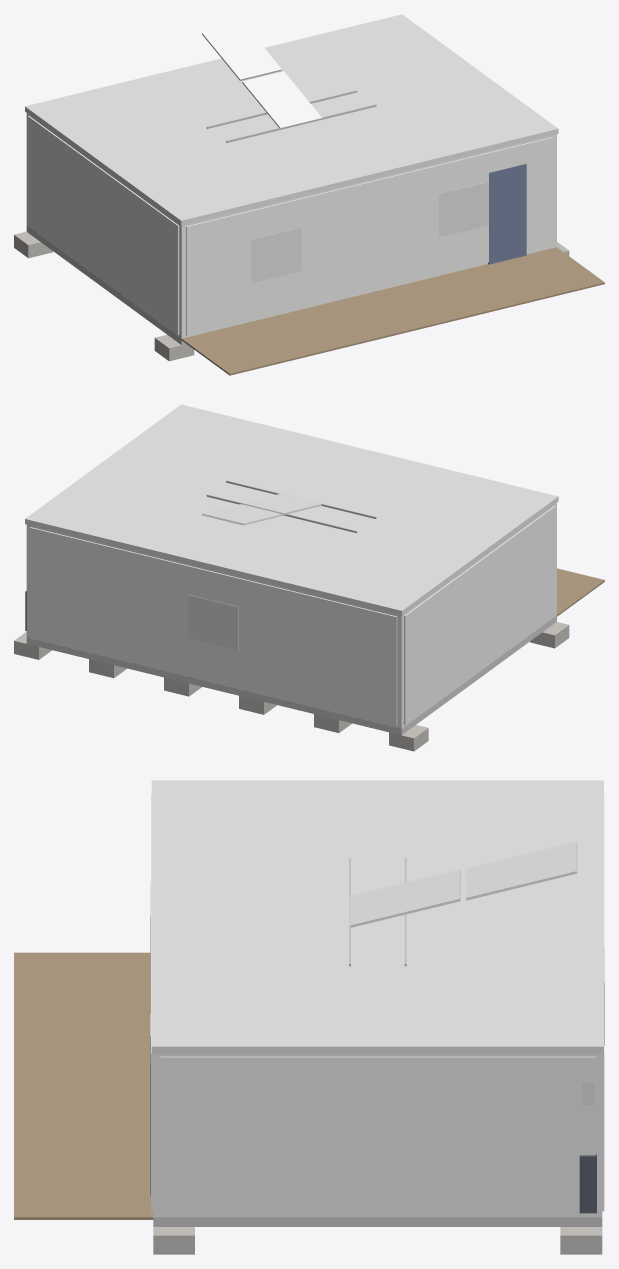
File: Studio-30-FullSolar+TerraceDeck-LOD1.glb
3 renders of one model, top to bottom at view 1: azimuth 30°, elevation 25°; view 2: azimuth 150°, elevation 25°; view 3: azimuth 270°, elevation 25°, orthographic. The views are drawn at different scales.
Parts seen in each view (by area): view 1: RoofMain, ExteriorPanelsStandard, TerraceDeck, SolarPanelArray, WindowsStandard, EntryDoor, ExteriorShell, FoundationBlocks, BaseFrame, SolarMountingHardware; view 2: RoofMain, ExteriorPanelsStandard, BaseFrame, FoundationBlocks, ExteriorShell, WindowsStandard, SolarPanelArray, TerraceDeck, SolarMountingHardware; view 3: RoofMain, ExteriorPanelsStandard, TerraceDeck, SolarPanelArray, ExteriorShell, BaseFrame, FoundationBlocks, SolarBattery.
Boxes of the visible parts, x1,y1,x2,y2 form: RoofMain: [25, 14, 558, 225]; ExteriorPanelsStandard: [27, 115, 553, 335]; TerraceDeck: [181, 247, 604, 375]; SolarPanelArray: [202, 22, 321, 127]; WindowsStandard: [251, 181, 488, 283]; EntryDoor: [488, 164, 526, 264]; ExteriorShell: [26, 113, 556, 338]; FoundationBlocks: [14, 231, 569, 361]; BaseFrame: [26, 225, 185, 344]; SolarMountingHardware: [206, 90, 376, 142]; RoofMain: [25, 404, 558, 615]; ExteriorPanelsStandard: [30, 506, 555, 726]; BaseFrame: [26, 615, 556, 735]; FoundationBlocks: [14, 622, 569, 751]; ExteriorShell: [26, 503, 556, 728]; WindowsStandard: [188, 594, 238, 650]; SolarPanelArray: [202, 493, 321, 525]; TerraceDeck: [557, 568, 604, 616]; SolarMountingHardware: [206, 480, 376, 533]; RoofMain: [151, 780, 603, 1053]; ExteriorPanelsStandard: [151, 794, 604, 1215]; TerraceDeck: [14, 952, 153, 1219]; SolarPanelArray: [349, 842, 577, 927]; ExteriorShell: [153, 1054, 602, 1217]; BaseFrame: [153, 1217, 602, 1226]; FoundationBlocks: [153, 1227, 602, 1254]; SolarBattery: [579, 1154, 596, 1213].
Bounding box in the file's own units: 9.6 × 4.07 × 8.49.
